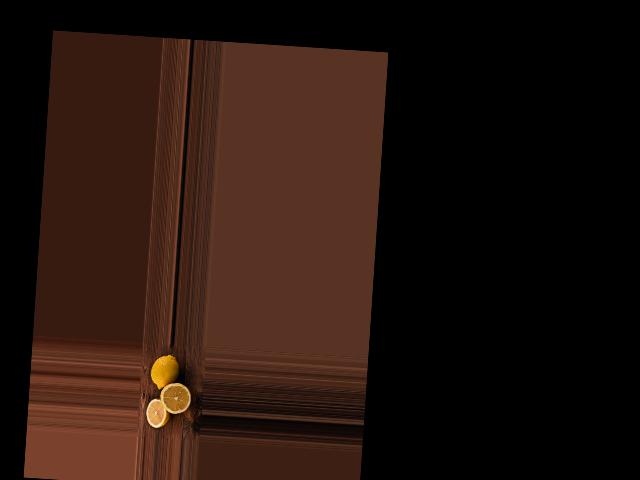lemon: (146, 355, 181, 390)
